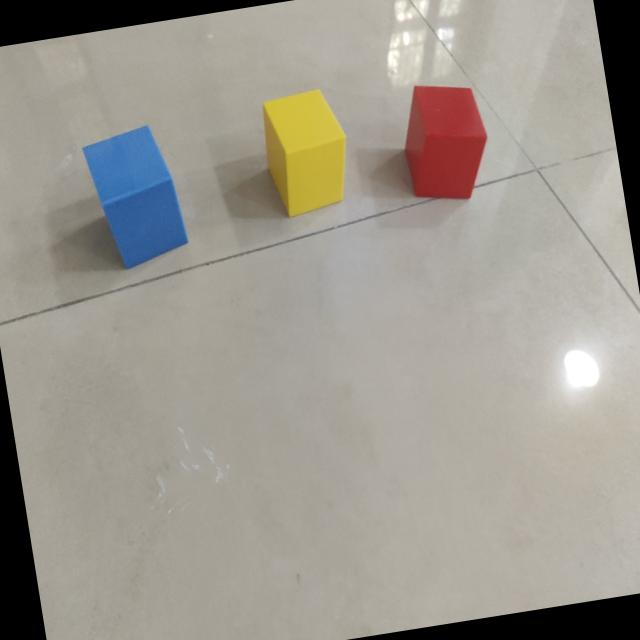blue: (82, 126, 189, 270)
red: (404, 85, 490, 202)
yellow: (262, 90, 347, 219)
